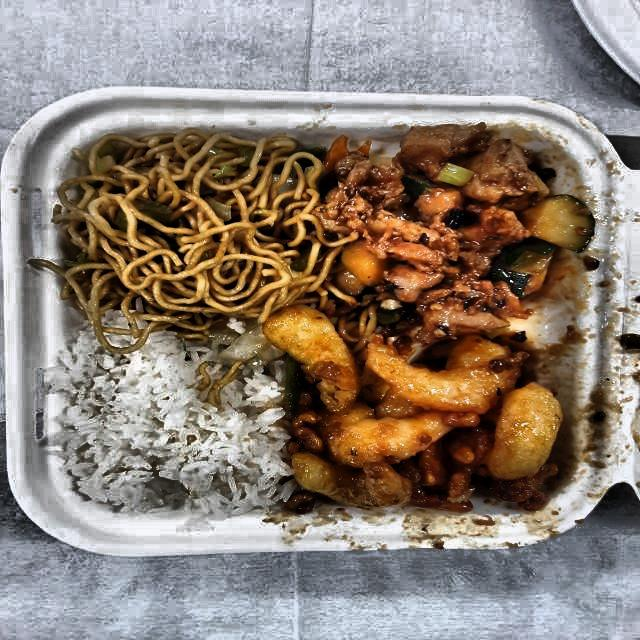Food: (278, 320, 574, 524), (54, 126, 325, 330), (322, 126, 584, 335), (54, 341, 282, 514)
